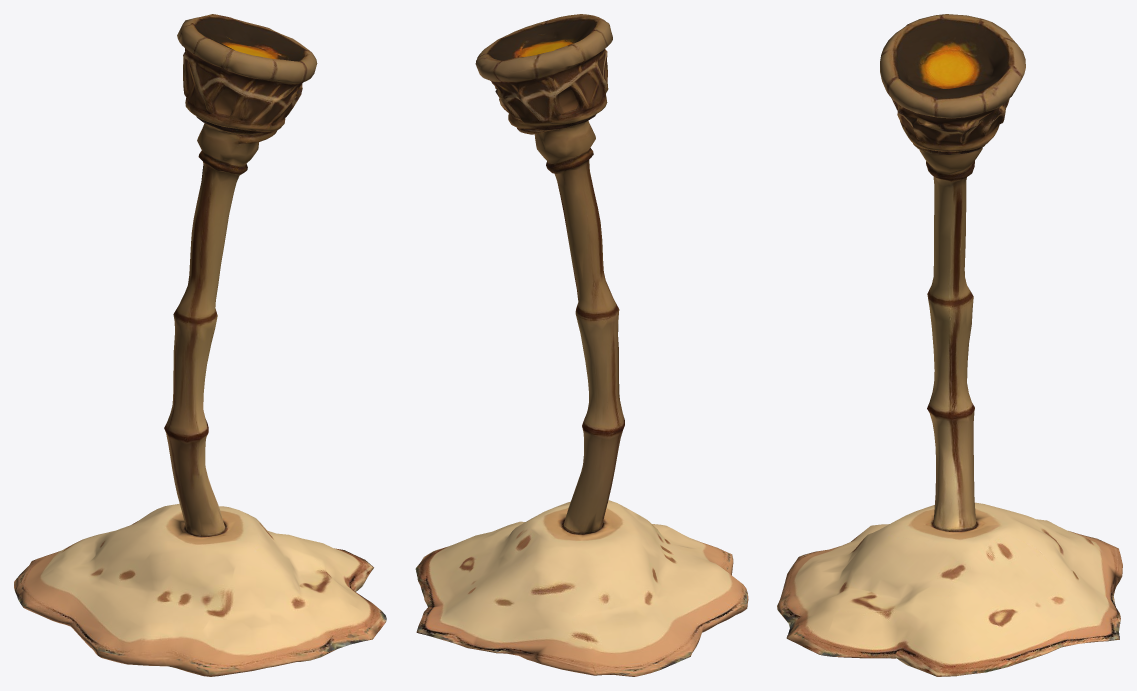
Rendered from mesale.glb.
3 views of the same model, side by side, from view 1: azimuth 30°, elevation 25°; view 2: azimuth 150°, elevation 25°; view 3: azimuth 270°, elevation 25° (orthographic). The views are drawn at different scales.
Parts seen in each view (by area): view 1: world_1; view 2: world_1; view 3: world_1.
Boxes of the visible parts, x1=… form: world_1: x1=14, y1=14, x2=386, y2=676; world_1: x1=415, y1=14, x2=748, y2=676; world_1: x1=777, y1=14, x2=1122, y2=676.
Size of the model in its own units: 0.5435 by 0.972 by 0.5238.
1 material, 1 textured.
